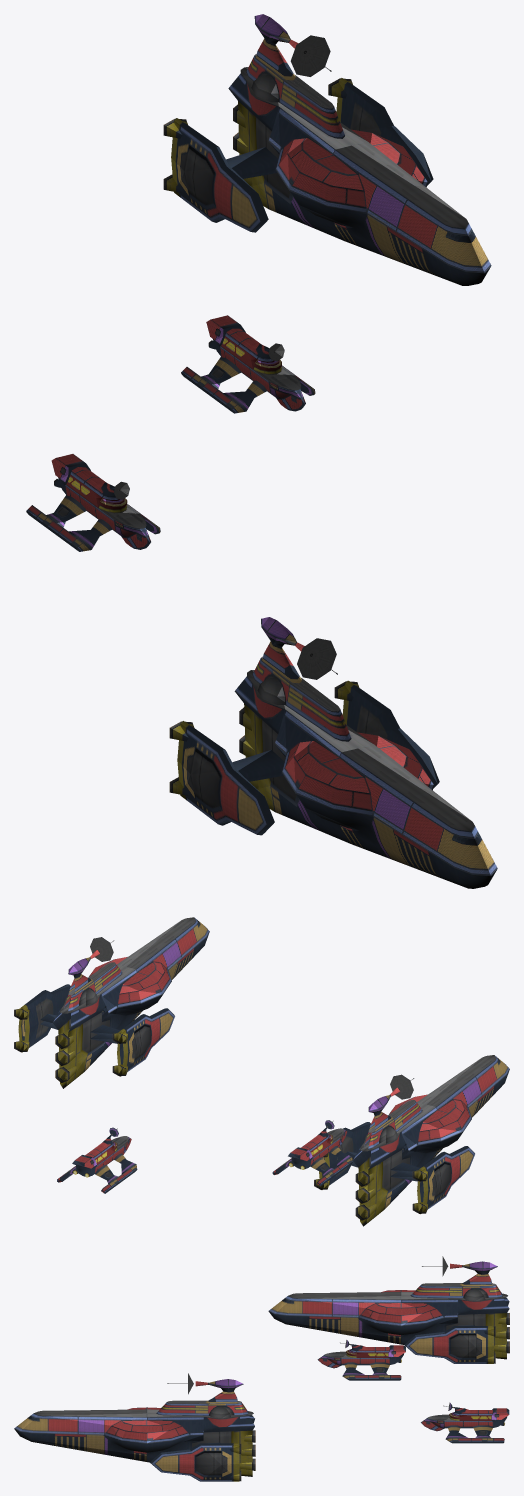
Rendered from stg310_20.obj.
The picture shows the model from 3 angles, top to bottom: view 1: azimuth 30°, elevation 25°; view 2: azimuth 150°, elevation 25°; view 3: azimuth 270°, elevation 25°; orthographic projection. The views are drawn at different scales.
Visible parts, largest first — view 1: polygon0, polygon1, polygon3, polygon2; view 2: polygon1, polygon0, polygon3, polygon2; view 3: polygon0, polygon1, polygon3, polygon2.
Part boxes in pixels (left/top/right/bottom): polygon0: left=169, top=617, right=497, bottom=888; polygon1: left=163, top=14, right=491, bottom=285; polygon3: left=181, top=315, right=315, bottom=413; polygon2: left=26, top=454, right=160, bottom=551; polygon1: left=14, top=917, right=209, bottom=1088; polygon0: left=314, top=1055, right=509, bottom=1226; polygon3: left=57, top=1127, right=137, bottom=1193; polygon2: left=272, top=1120, right=352, bottom=1186; polygon0: left=14, top=1373, right=255, bottom=1481; polygon1: left=268, top=1256, right=509, bottom=1363; polygon3: left=421, top=1402, right=509, bottom=1443; polygon2: left=317, top=1340, right=405, bottom=1380.
Size of the model in its own units: 3291 by 4068 by 6492.
2 materials, 2 textured.
